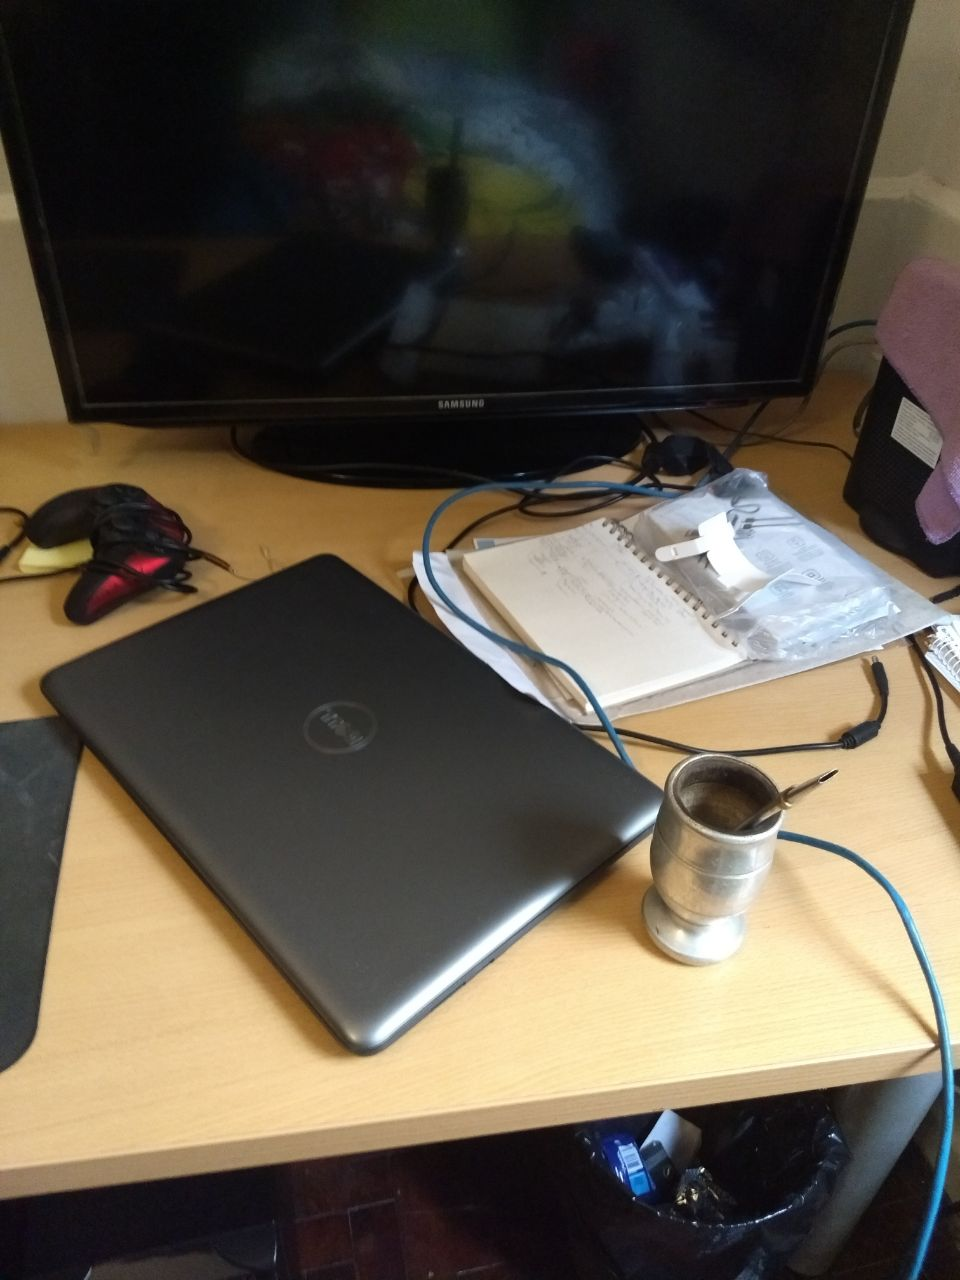mate: (634, 753, 839, 976)
metal: (632, 751, 837, 974)
